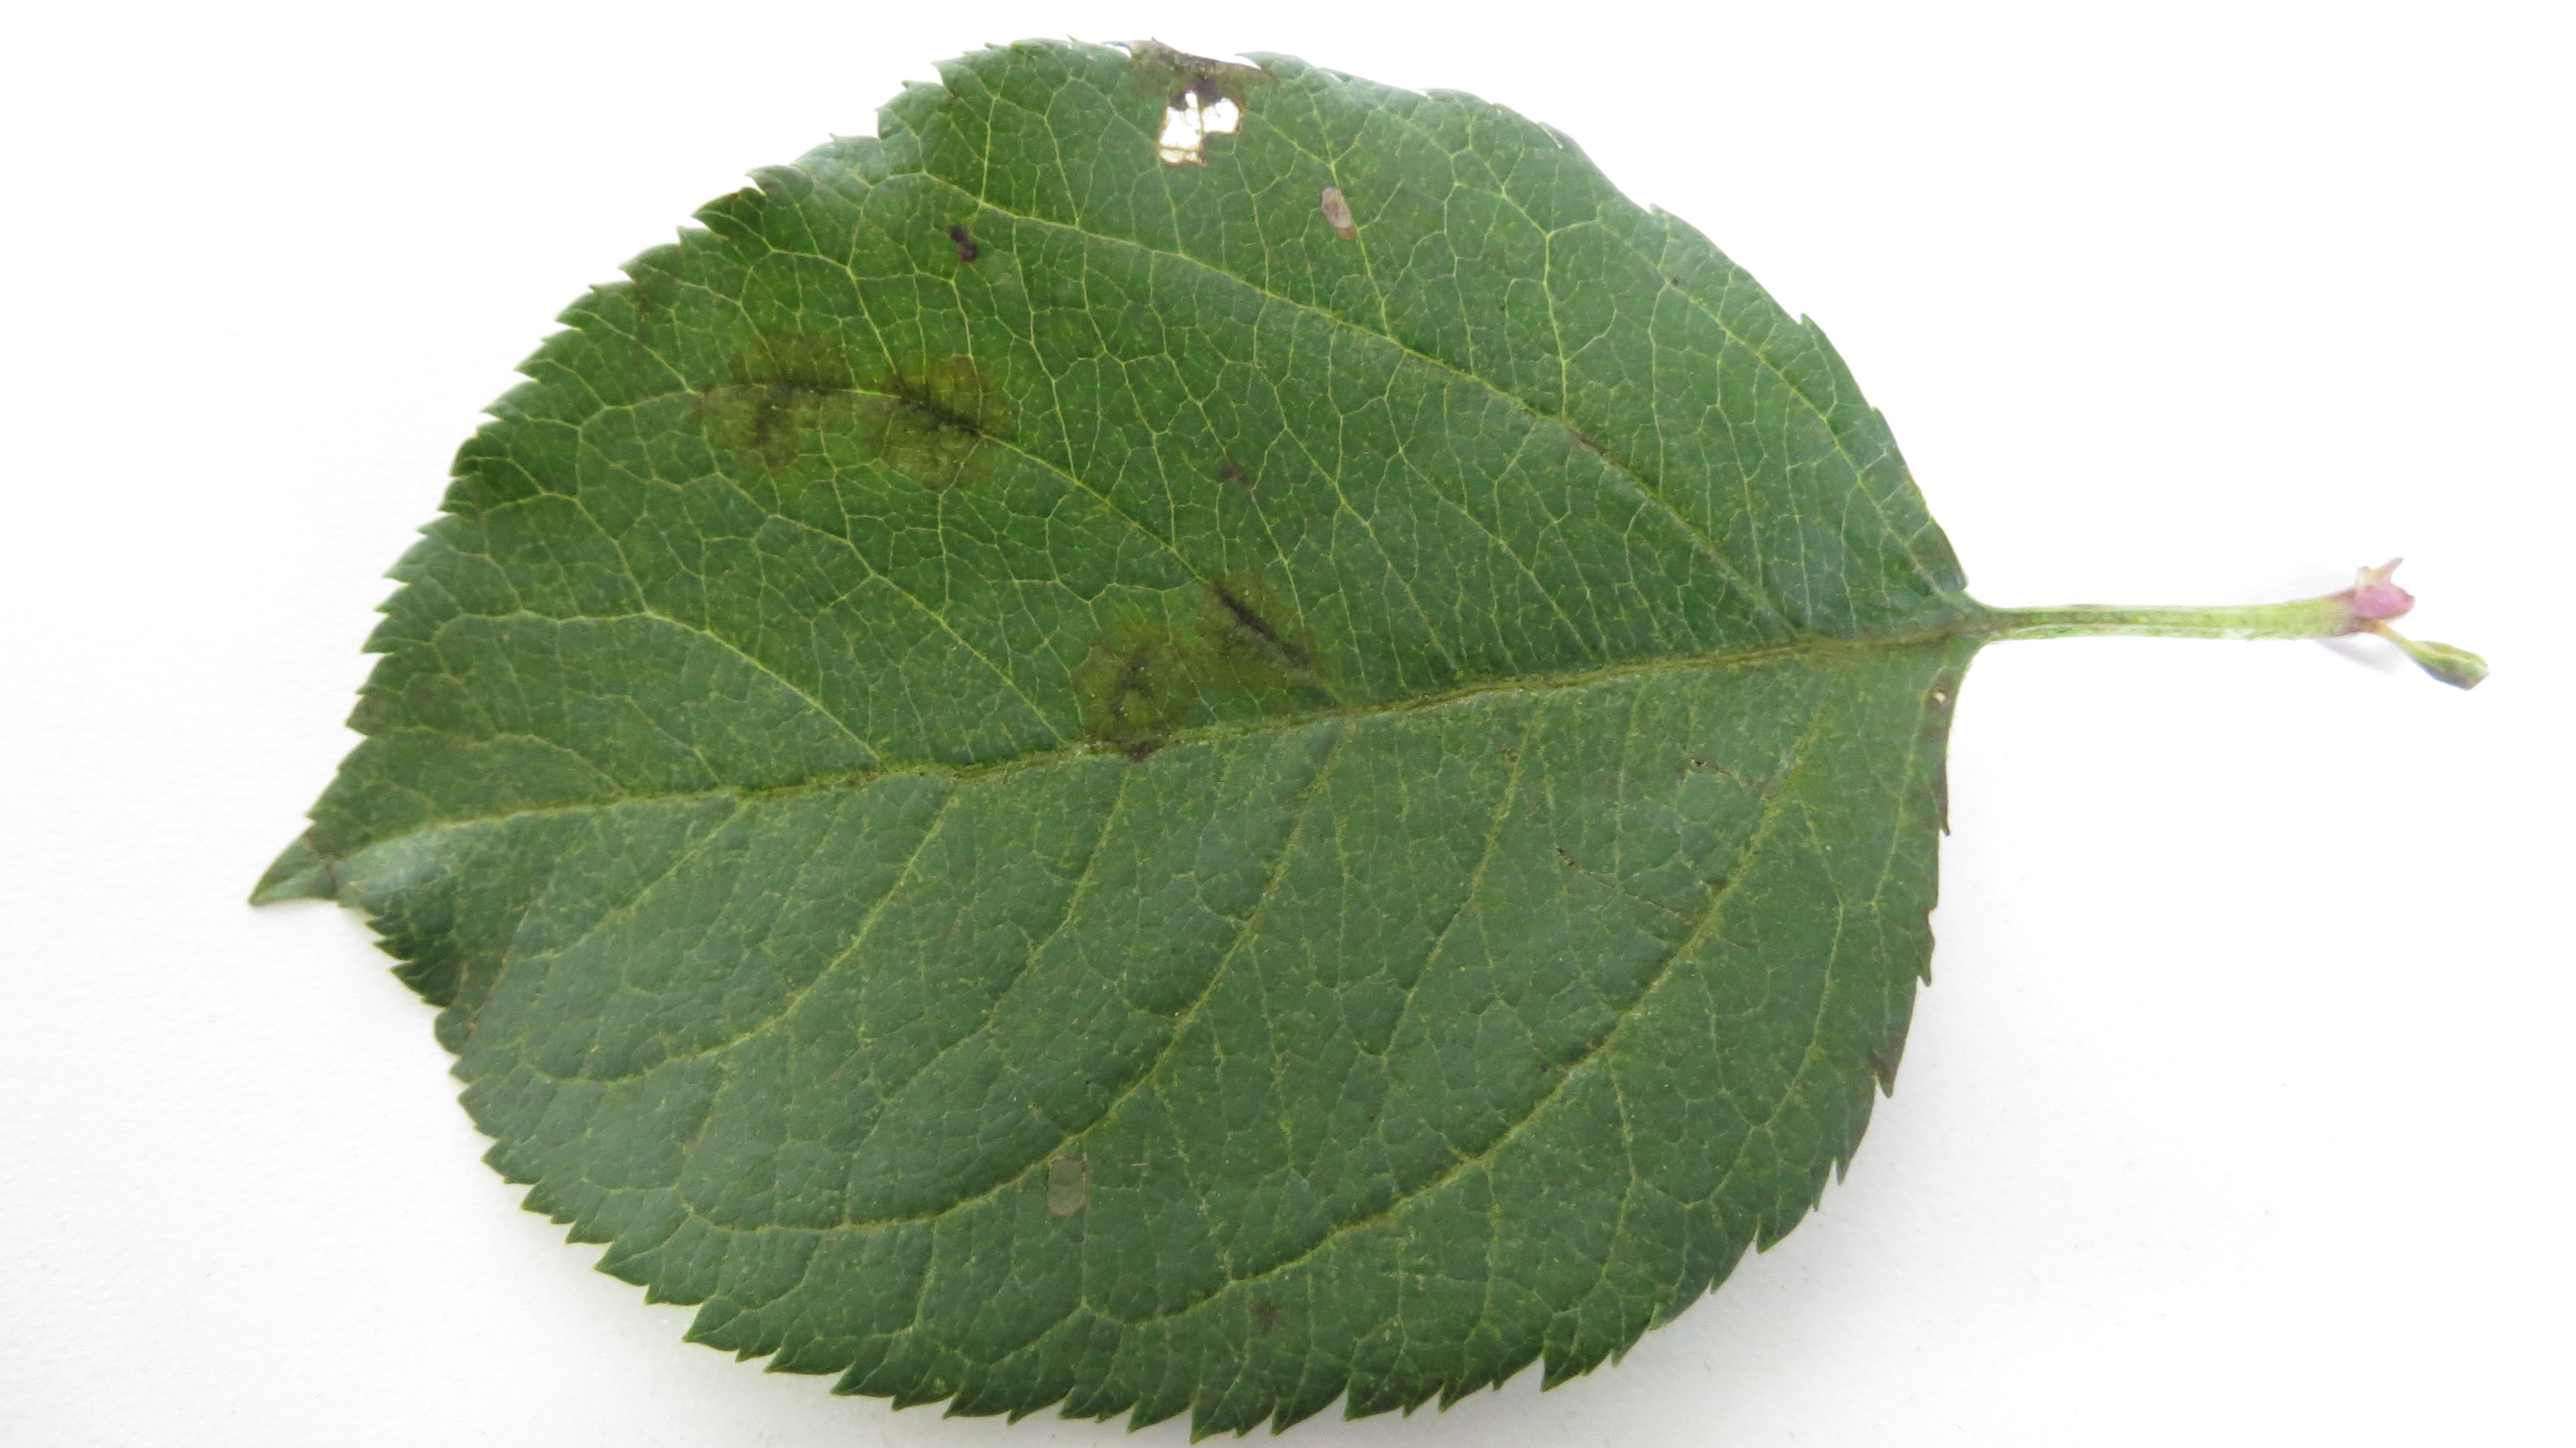sarna: (701, 315, 846, 478), (1056, 618, 1200, 766), (860, 359, 1008, 481), (1194, 566, 1329, 699), (1552, 404, 1661, 494), (1200, 437, 1283, 528), (927, 207, 1000, 274), (1302, 170, 1364, 244)
